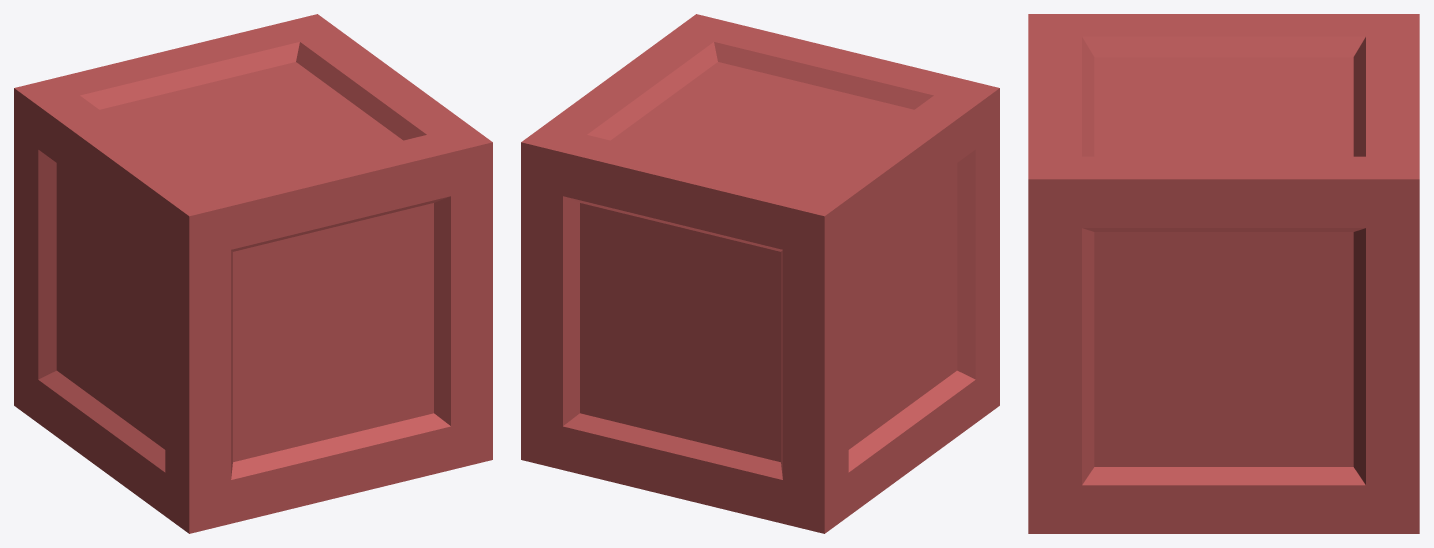
Rendered from caisse.fbx.
3 renders of one model, left to right at view 1: azimuth 30°, elevation 25°; view 2: azimuth 150°, elevation 25°; view 3: azimuth 270°, elevation 25°, orthographic. The views are drawn at different scales.
Visible parts, largest first — view 1: caisse; view 2: caisse; view 3: caisse.
Boxes of the visible parts, box(x1,y1,x2,y2) form: caisse: box(14, 14, 492, 533); caisse: box(521, 14, 999, 533); caisse: box(1028, 14, 1419, 533).
Size of what is drawn, in the model's own units: 1 by 1 by 1.
